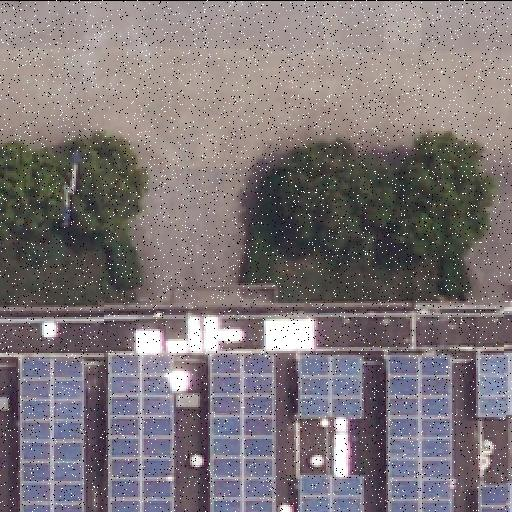solar-panel: (108, 352, 176, 512), (210, 352, 274, 512), (388, 356, 452, 512), (21, 352, 83, 512), (298, 357, 362, 419), (301, 473, 363, 511), (480, 353, 512, 415), (480, 484, 512, 512)
